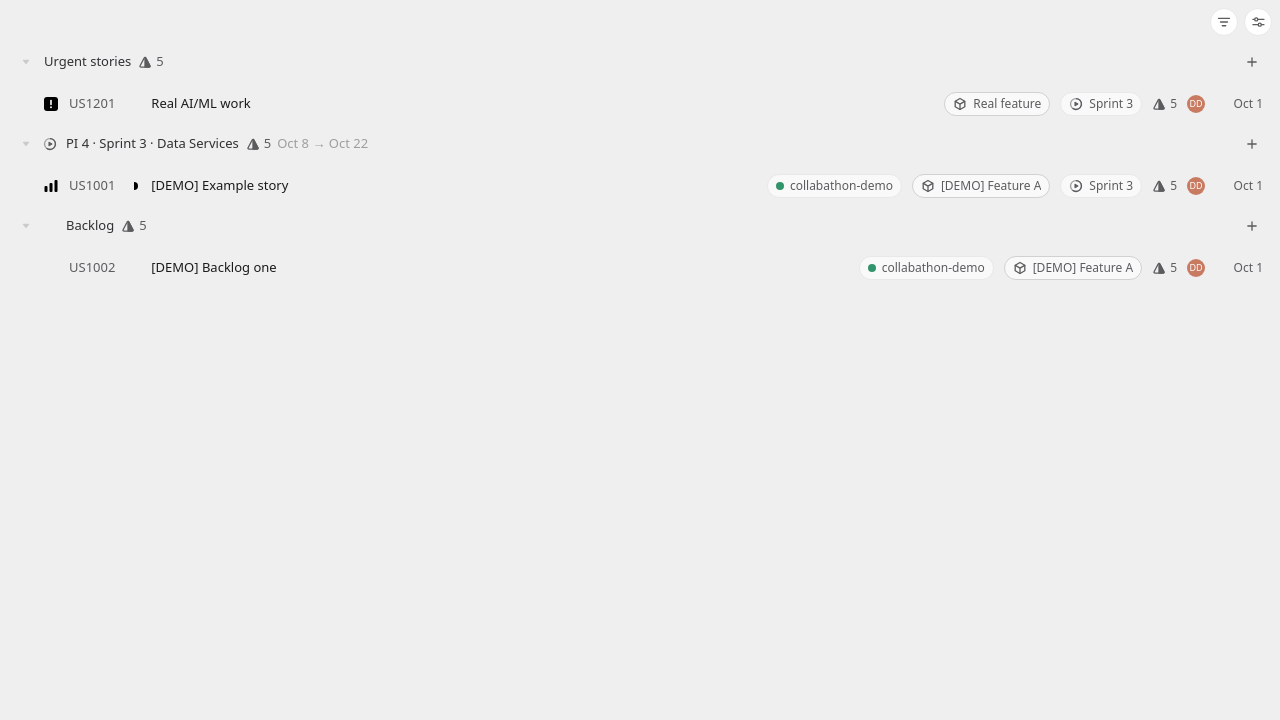
Scenario: the Display menu: Focus with a disabled Importance ordering, Completed stories, properties in Linear's order
Click the button named "Display options" at (1258,22), box 1244,8 -> 1272,36
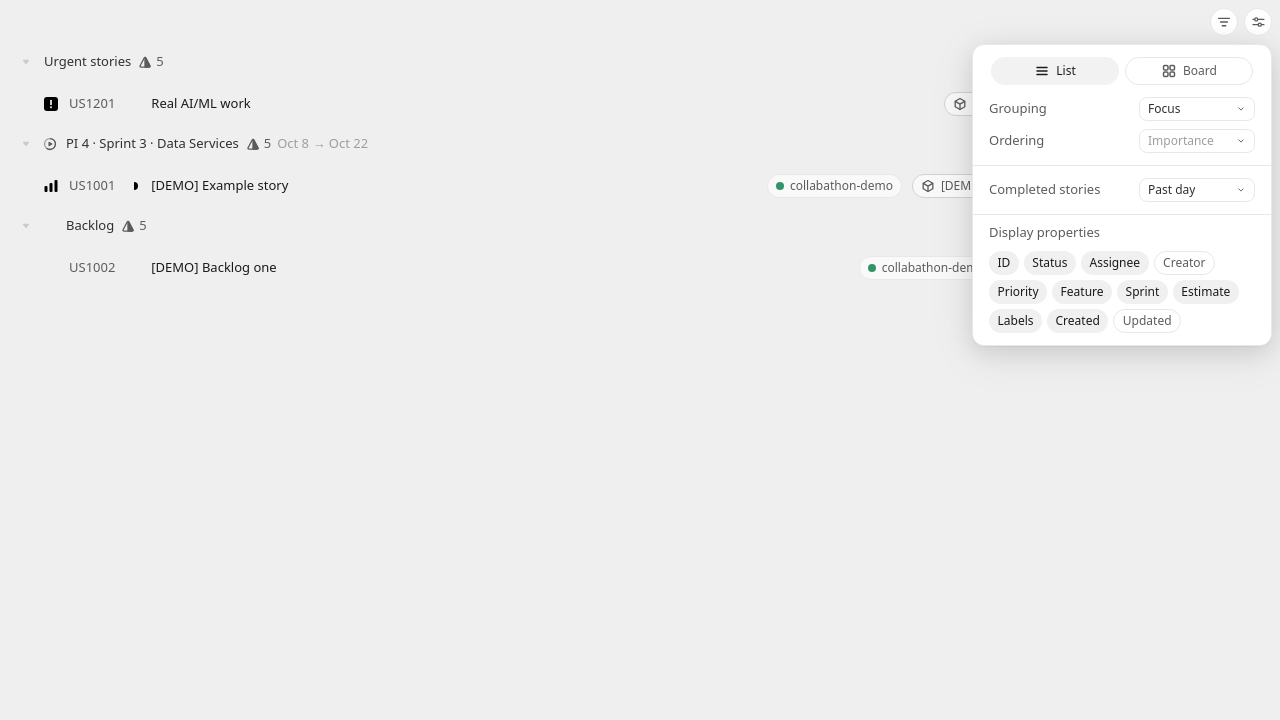
Expected: the button with aria-label "Grouping: Focus" is shown, 1139,97 -> 1255,121
Expected: the button with aria-label "Ordering: Importance" is disabled, 1139,129 -> 1255,153
Expected: the button with aria-label "Completed stories: Past day" is shown, 1139,178 -> 1255,202
